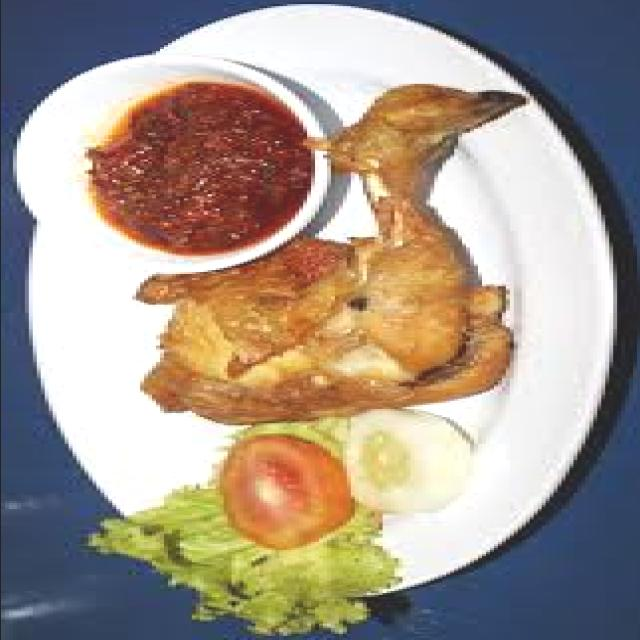ayam goreng: (135, 84, 525, 427)
